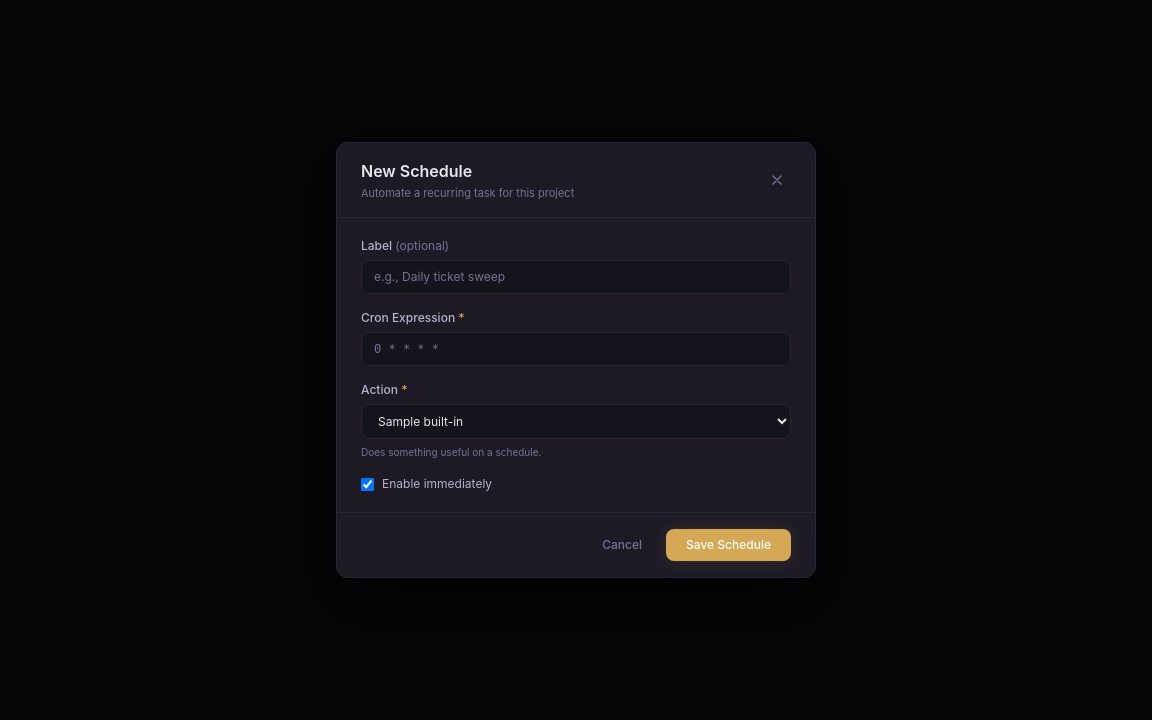
Scenario: NewScheduleModal › switching from built-in to custom script swaps the config area
This screenshot has width=1152, height=720.
Expected: the text "Does something useful on a schedule." is shown, [361,446,541,458]
Note: Switch to the custom script
Select "triage.sh" in the dropdown with test id "new-schedule-action-select": (576, 422) [361,404,791,439]
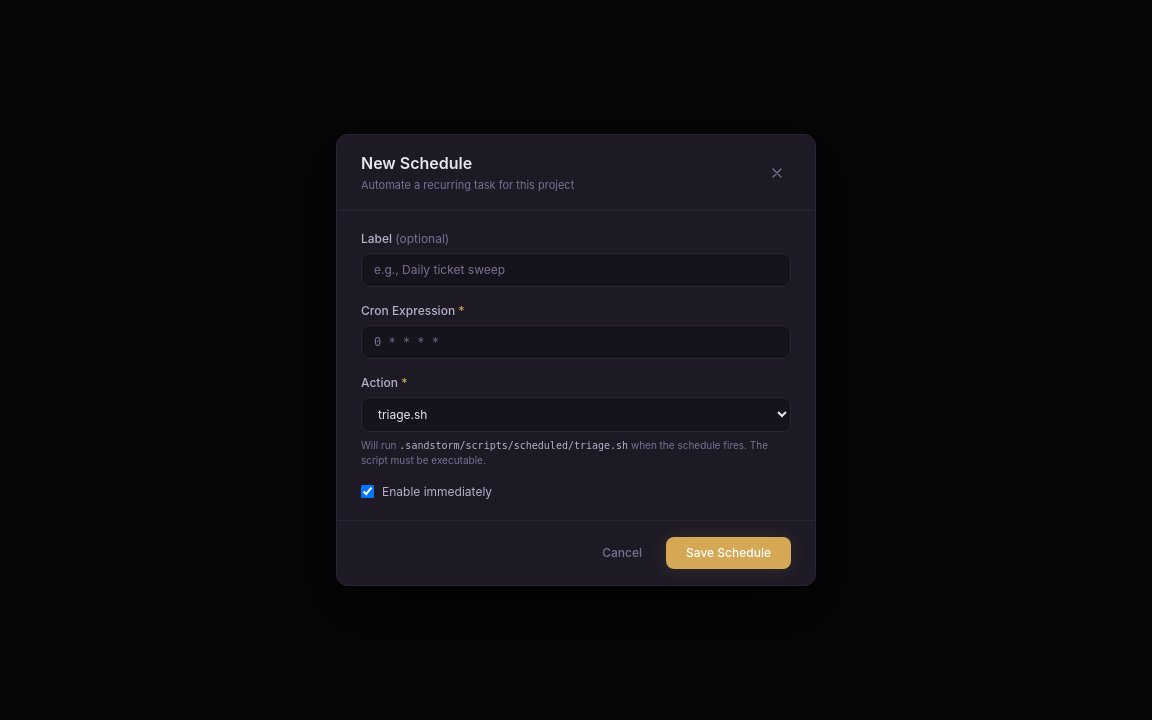
Result: the text with test id "builtin-description" is gone
Result: the element with test id "run-script-config" is shown at [361,438,791,468]
